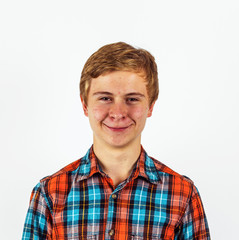teen: (68, 42, 161, 144)
